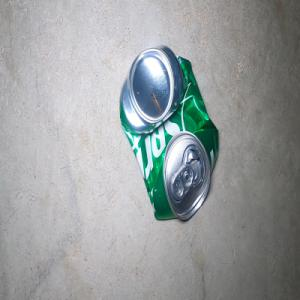SodaCan: (119, 44, 218, 221)
